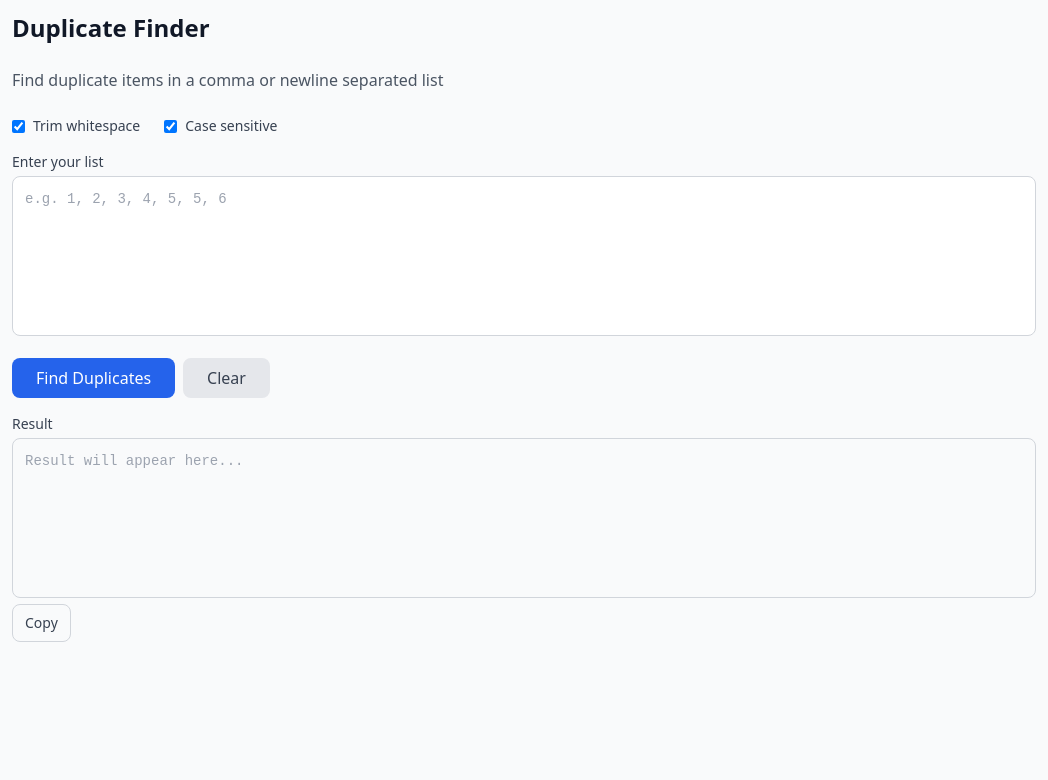
Test case: DuplicateFinder › reports no duplicates found when all items are unique
Type "1, 2, 3" into the text box labelled "Enter your list" at (524, 256), box [12,176,1036,336]
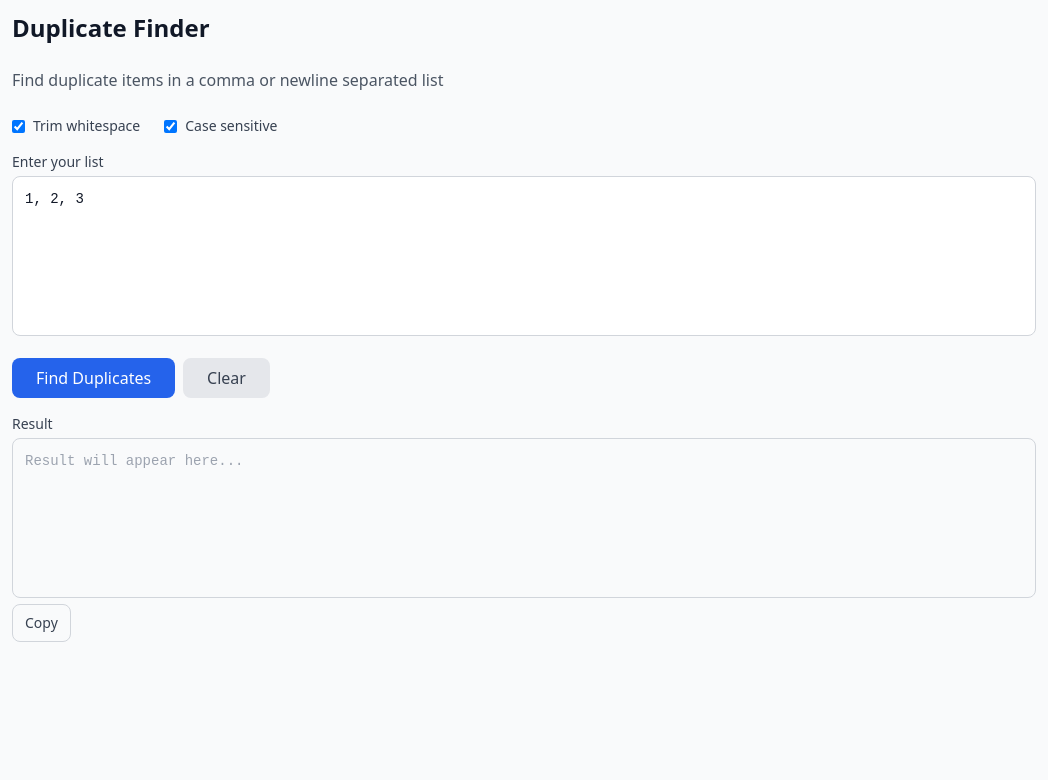
Click the button "Find Duplicates" at (94, 378), box [12,358,175,398]
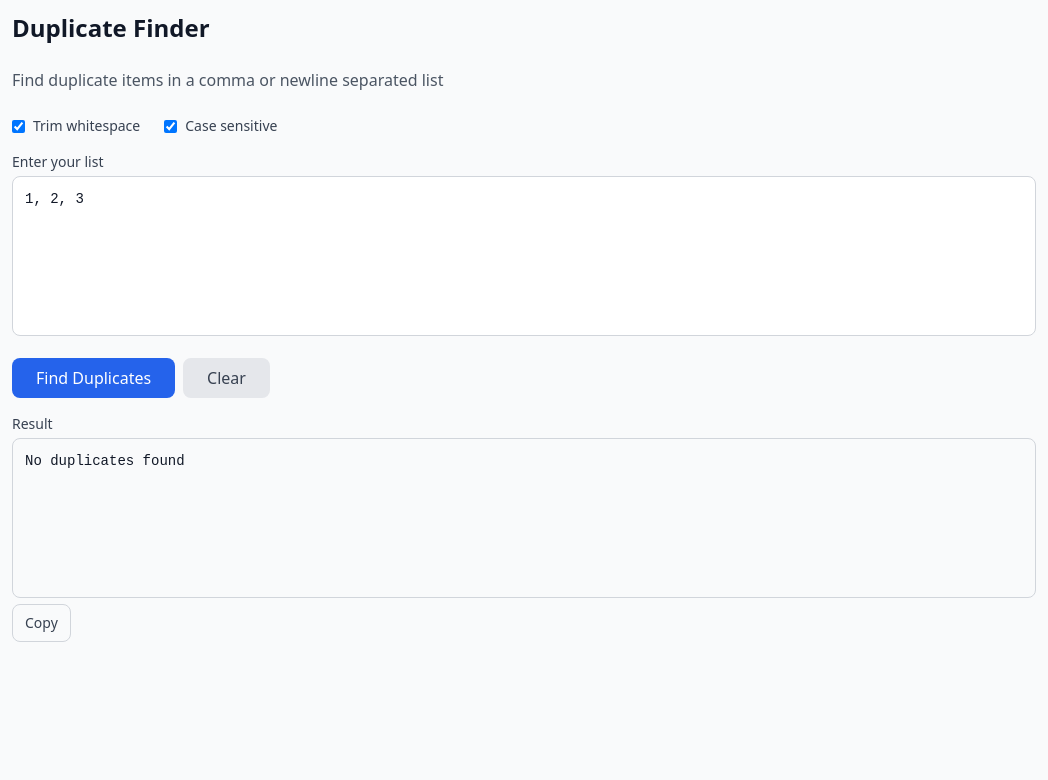
Expected: the text box labelled "Result" holds "No duplicates found", [12,438,1036,598]
